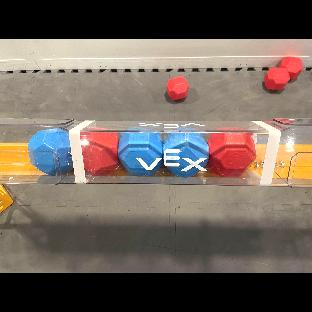V5_RED: (263, 67, 292, 91), (276, 56, 307, 78), (166, 79, 191, 103)
blueingoal: (24, 126, 73, 173), (161, 128, 208, 173), (119, 127, 163, 172)
redingoal: (207, 125, 258, 179), (75, 125, 118, 173)
